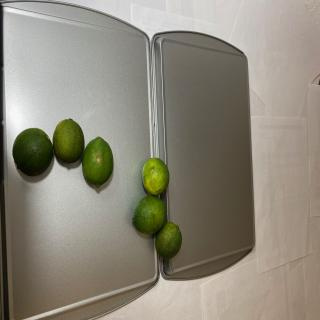Lemon: (12, 128, 53, 176), (82, 136, 113, 188), (52, 118, 84, 164), (132, 195, 166, 234), (142, 157, 170, 196), (155, 222, 182, 260)
